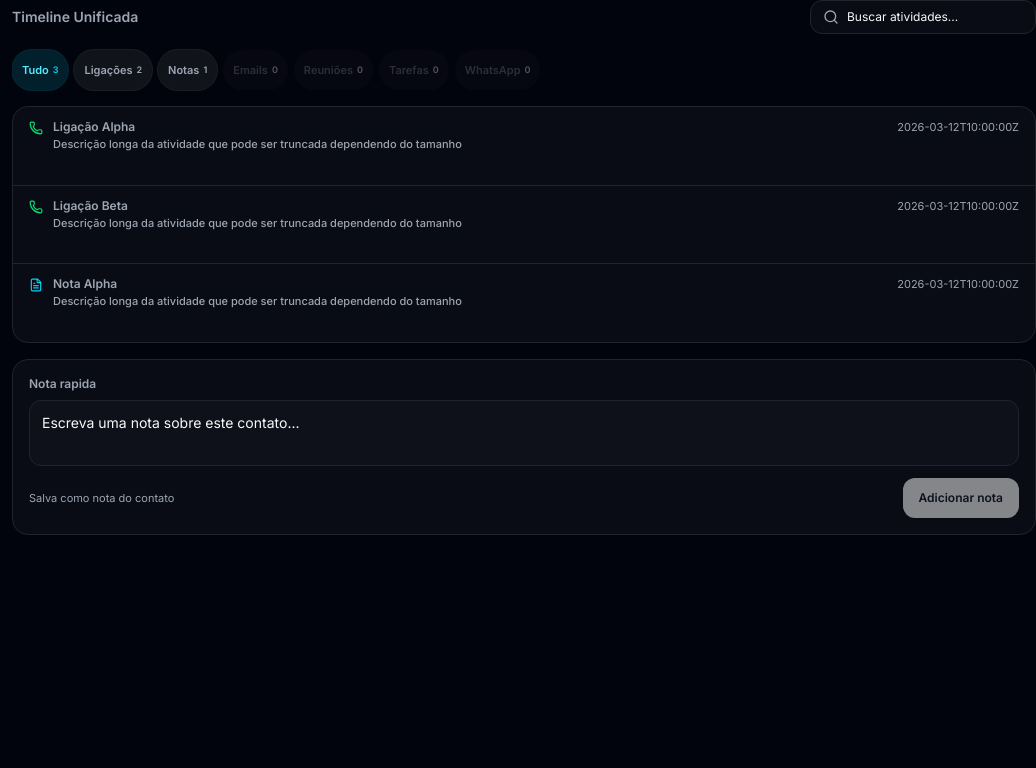
Test: ContactCockpitTimeline — Filter Chips (AC5) › combines text search with type filter
# Filter by CALL
Click the button with aria-label "Filtrar por Ligações": coordinates (113, 70) [74,50,152,90]
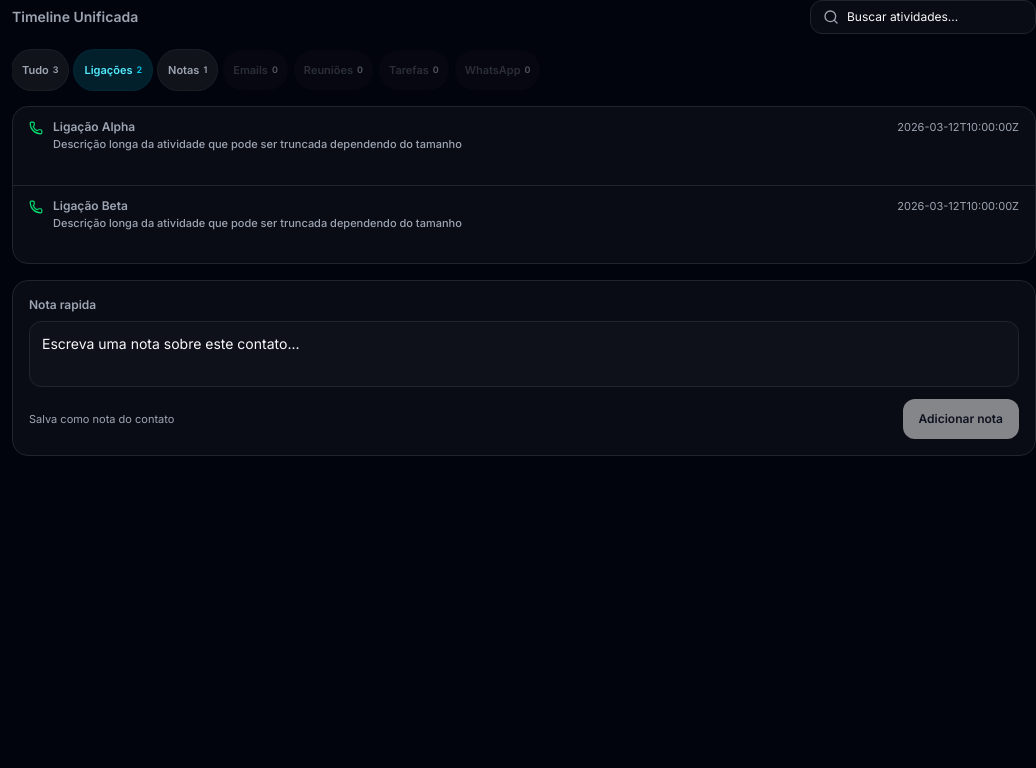
# Then search "Alpha"
In the field with placeholder "Buscar atividades...": coordinates (935, 17) [847,9,1023,25], type "Alpha"
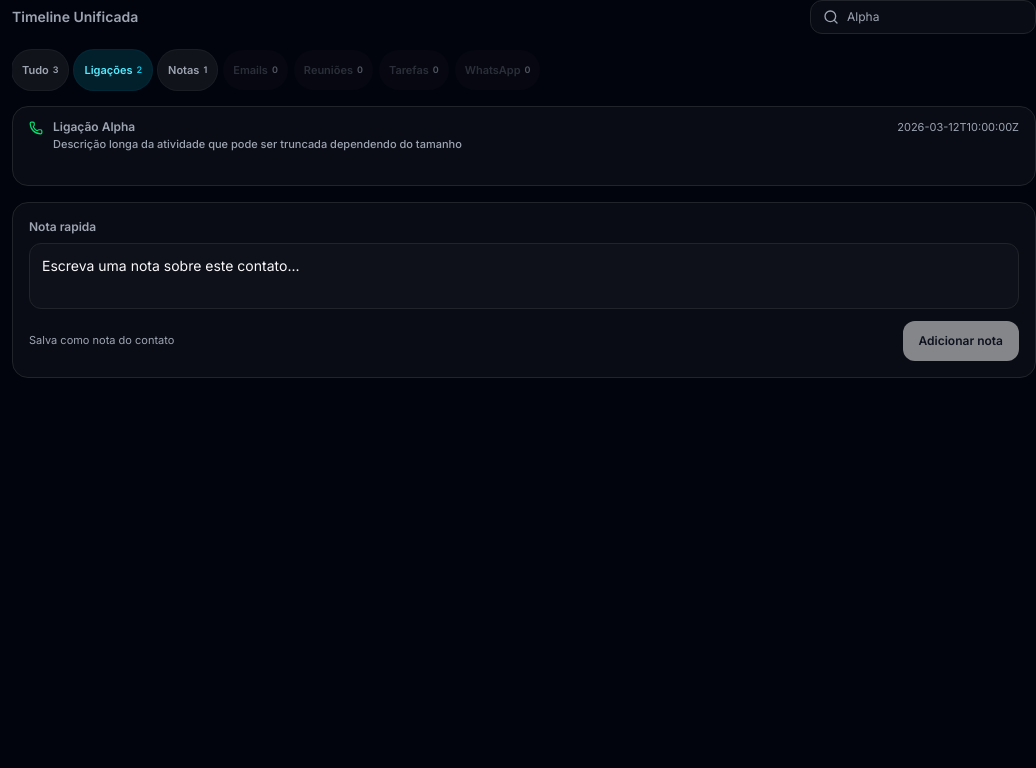
Check: the text "Ligação Alpha" is shown, box [53,119,135,135]
Check: the text "Ligação Beta" is gone
